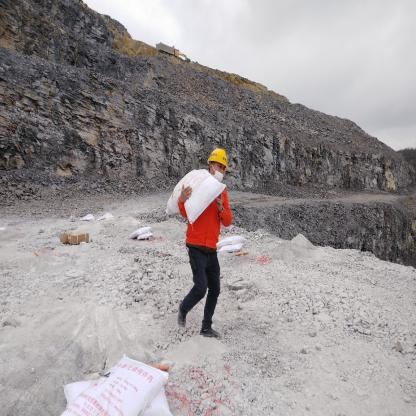person: (174, 128, 238, 342)
